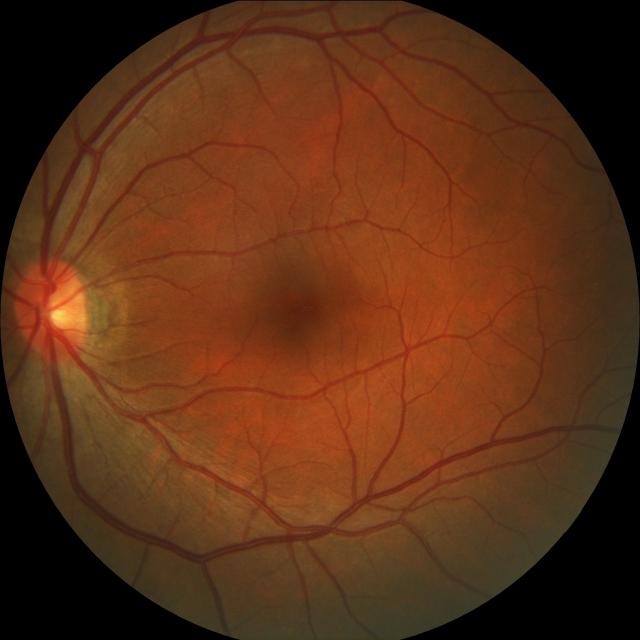OC: (35, 280, 71, 330)
OD: (12, 256, 87, 360)
